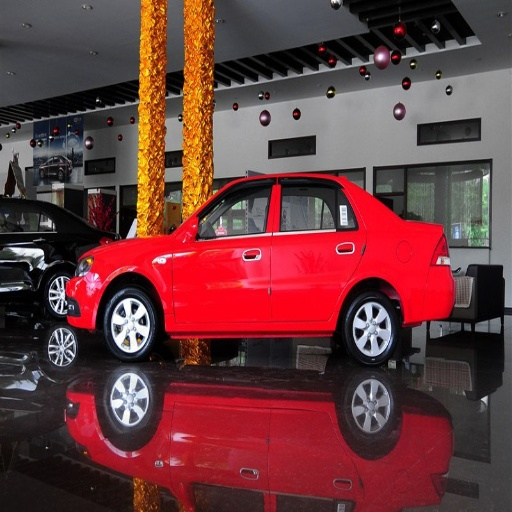back_glass: (278, 6, 466, 70)
back_left_door: (270, 175, 365, 333)
front_left_door: (174, 177, 276, 326)
tailgate: (424, 47, 492, 94)
trunk: (238, 74, 509, 127)
